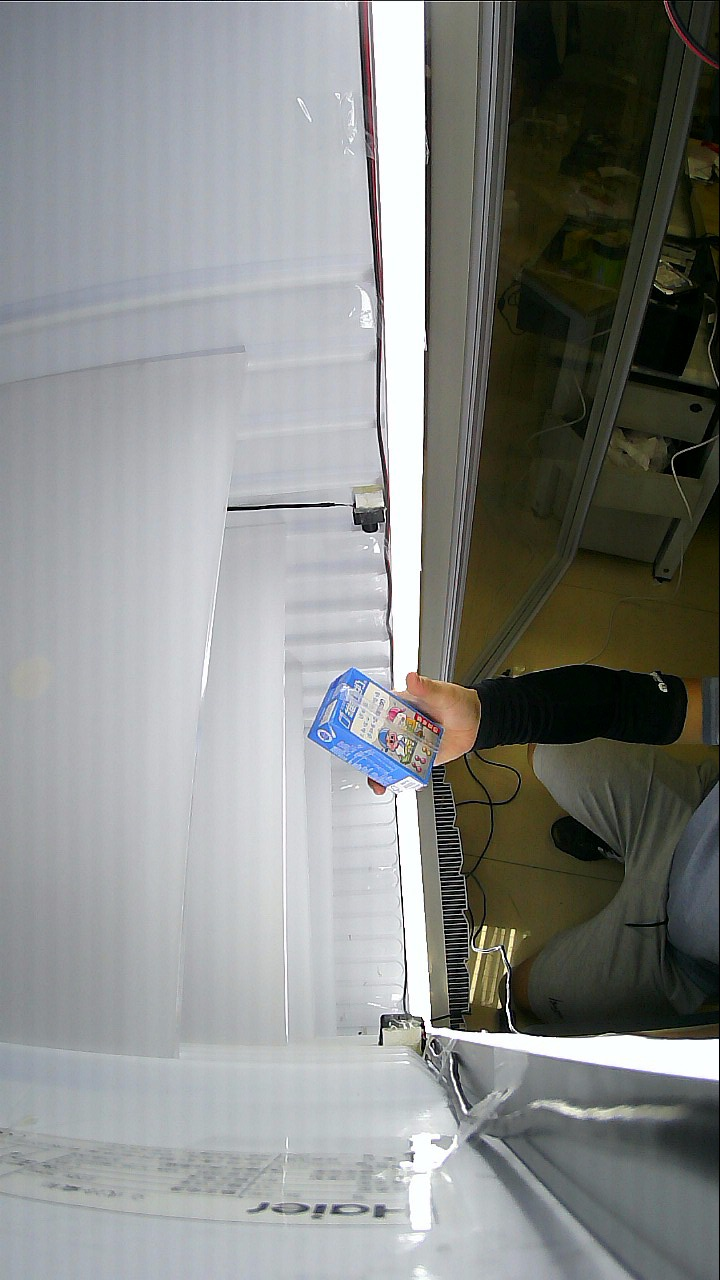VitaSoyOriginal: (312, 673, 585, 810)
